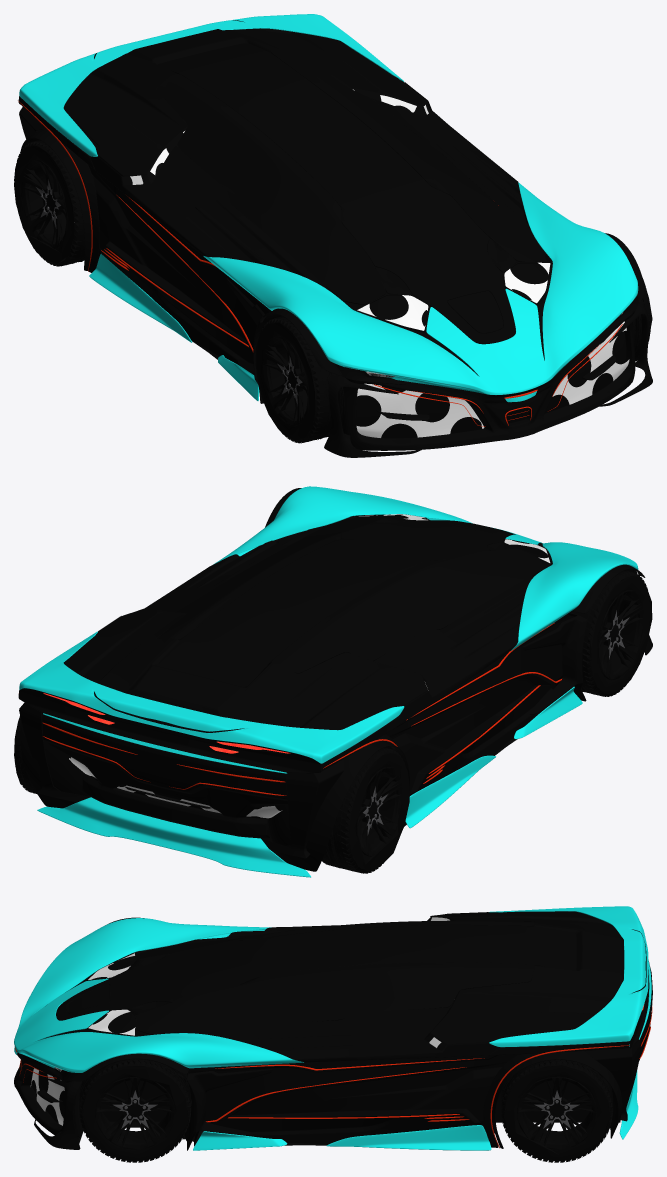
The model's file is concept-hyper.glb.
The picture shows the model from 3 angles, top to bottom: view 1: azimuth 30°, elevation 25°; view 2: azimuth 150°, elevation 25°; view 3: azimuth 270°, elevation 25°; orthographic projection. The views are drawn at different scales.
Parts seen in each view (by area): view 1: Body, wheel-front-right-mesh, wheel-rear-right-mesh; view 2: Body, wheel-rear-right-mesh, wheel-front-right-mesh, wheel-rear-left-mesh; view 3: Body, wheel-front-left-mesh, wheel-rear-left-mesh.
Boxes of the visible parts, left/top/right/bottom form: Body: left=18, top=14, right=652, bottom=457; wheel-front-right-mesh: left=255, top=316, right=342, bottom=443; wheel-rear-right-mesh: left=14, top=140, right=93, bottom=266; Body: left=18, top=486, right=652, bottom=877; wheel-rear-right-mesh: left=322, top=747, right=409, bottom=873; wheel-front-right-mesh: left=581, top=570, right=652, bottom=696; wheel-rear-left-mesh: left=14, top=716, right=36, bottom=793; Body: left=14, top=906, right=652, bottom=1150; wheel-front-left-mesh: left=79, top=1059, right=191, bottom=1162; wheel-rear-left-mesh: left=501, top=1059, right=613, bottom=1162.
Bounding box in the file's own units: 1.5 × 0.7251 × 2.8.
Materials: 10 (3 with a texture image).
